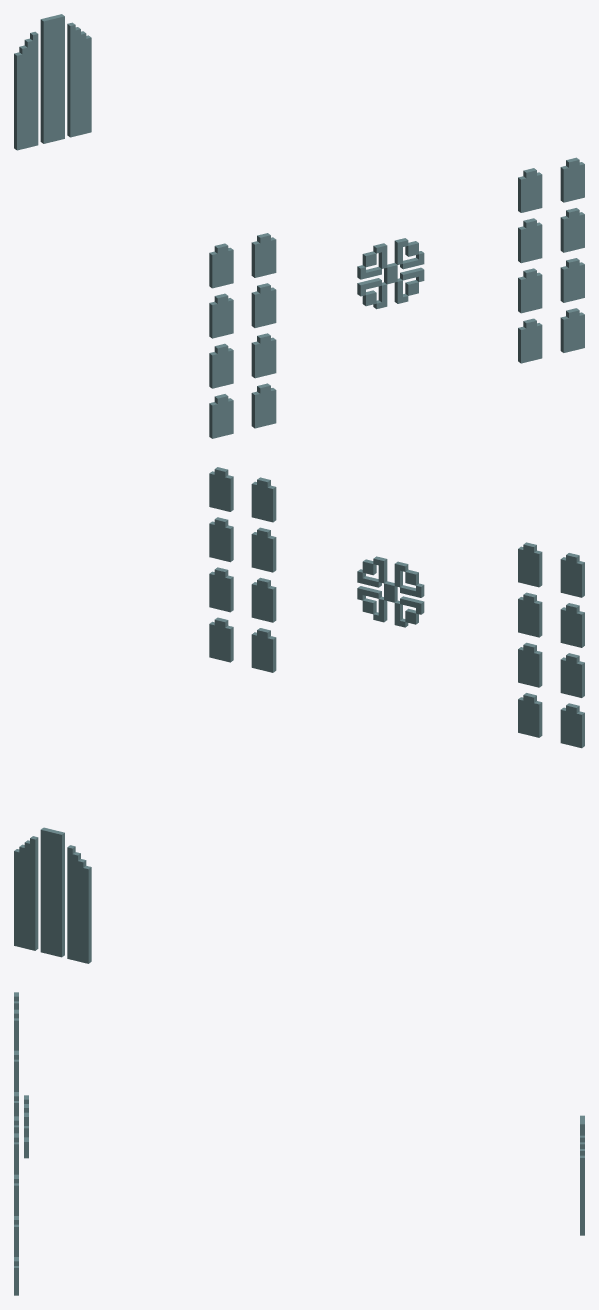
The model's file is church-75-ch_windowupper.obj.
The picture shows the model from 3 angles, top to bottom: view 1: azimuth 30°, elevation 25°; view 2: azimuth 150°, elevation 25°; view 3: azimuth 270°, elevation 25°; orthographic projection. The views are drawn at different scales.
Visible parts, largest first — view 1: ch_windowupper; view 2: ch_windowupper; view 3: ch_windowupper.
Boxes of the visible parts, left/top/right/bottom form: ch_windowupper: left=14, top=14, right=584, bottom=438; ch_windowupper: left=14, top=467, right=584, bottom=963; ch_windowupper: left=14, top=992, right=584, bottom=1295.
Bounding box in the file's own units: 7 × 3.4 × 11.3.
Materials: 1 (1 with a texture image).
